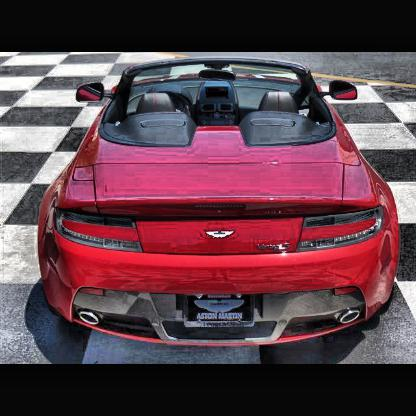Aston Martin V8 Vantage Convertible 2012: (38, 55, 400, 352)
